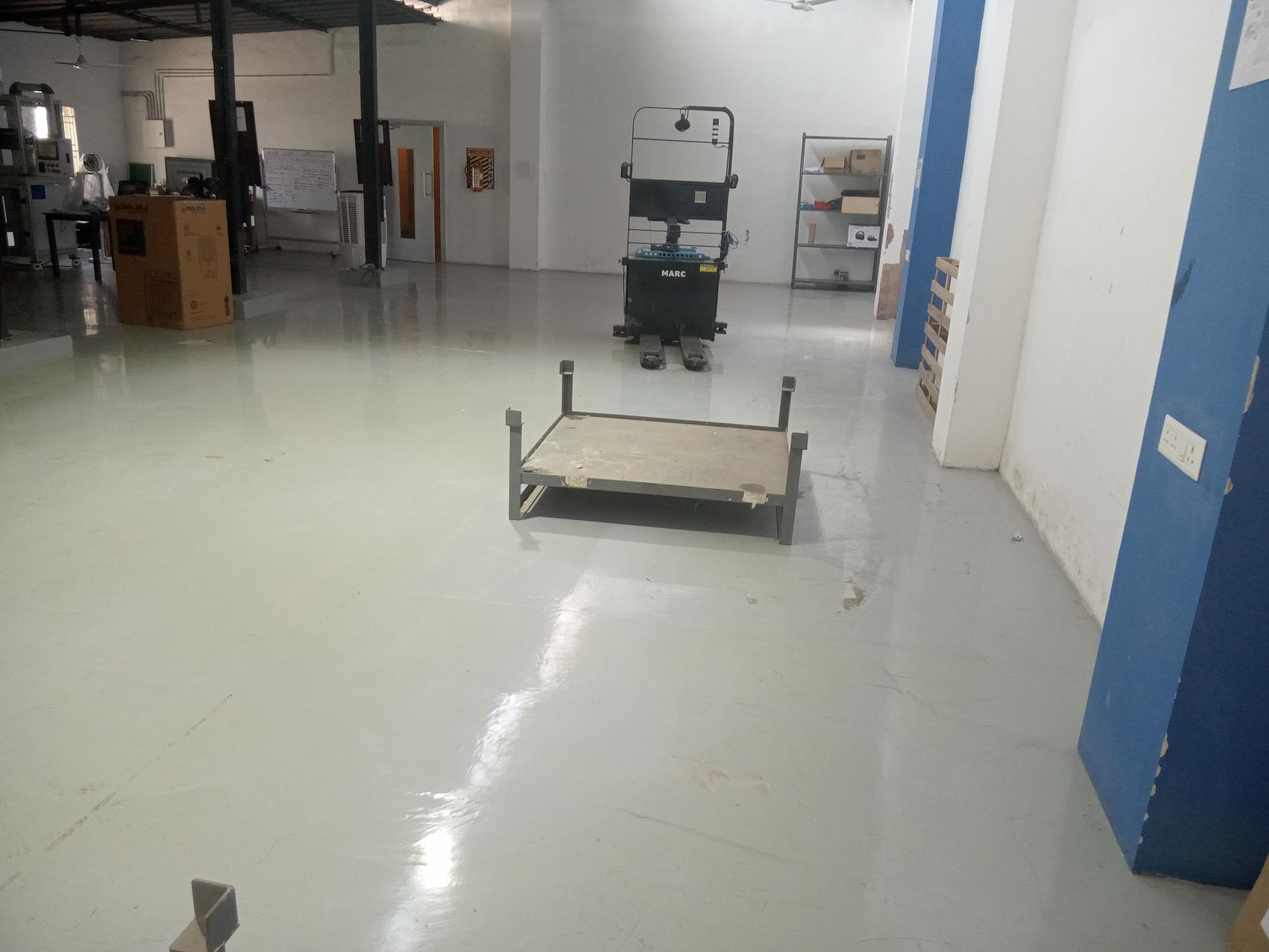pallet: (495, 348, 826, 563)
